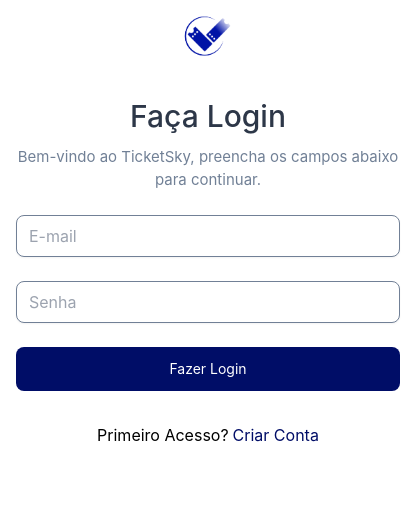
Test case: ModalLogin › renders fields and buttons correctly
Check: the field with placeholder "E-mail" is shown, box top-left (16, 215), bottom-right (400, 257)
Check: the password field with placeholder "Senha" is shown, box top-left (16, 281), bottom-right (400, 323)
// Switch to the 'signUp' variant
Step 1. Click the text "Criar Conta" → x=276, y=435, box top-left (233, 423), bottom-right (319, 447)
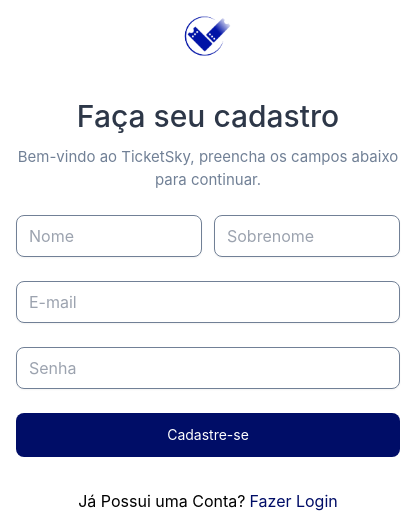
Check: the field with placeholder "Nome" is shown, box top-left (16, 215), bottom-right (202, 257)
Check: the field with placeholder "Sobrenome" is shown, box top-left (214, 215), bottom-right (400, 257)
Check: the button "Cadastre-se" is shown, box top-left (16, 413), bottom-right (400, 457)
